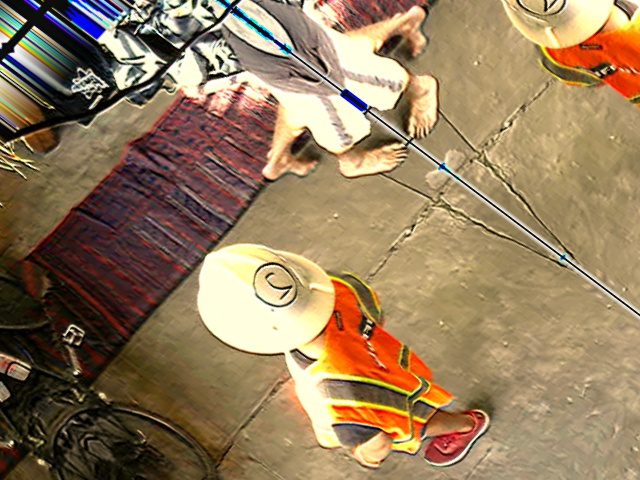two: (241, 257, 306, 315)
